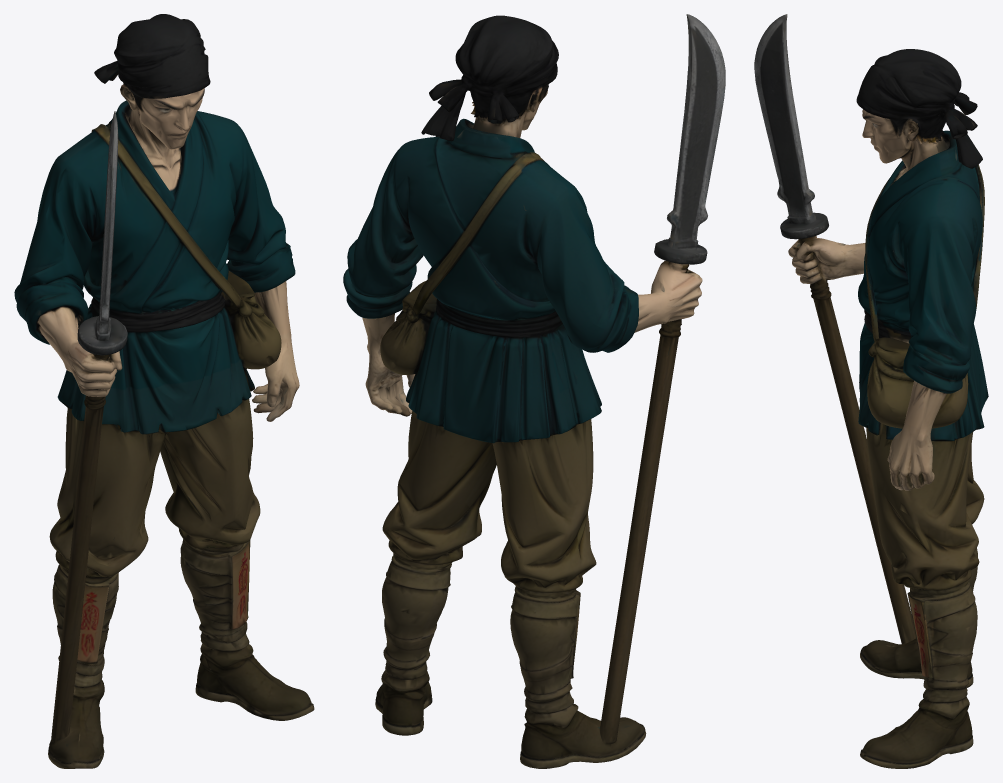
Rendered from dai_zong_ai.glb.
3 renders of one model, left to right at view 1: azimuth 30°, elevation 25°; view 2: azimuth 150°, elevation 25°; view 3: azimuth 270°, elevation 25°, orthographic. The views are drawn at different scales.
Visible parts, largest first — view 1: node_0; view 2: node_0; view 3: node_0.
Part boxes in pixels (x1,y1,x2,y2): node_0: (14,14,314,768); node_0: (343,14,725,768); node_0: (754,14,988,768).
Size of the model in its own units: 0.4653 by 1.12 by 0.362.
Materials: 1 (1 with a texture image).
